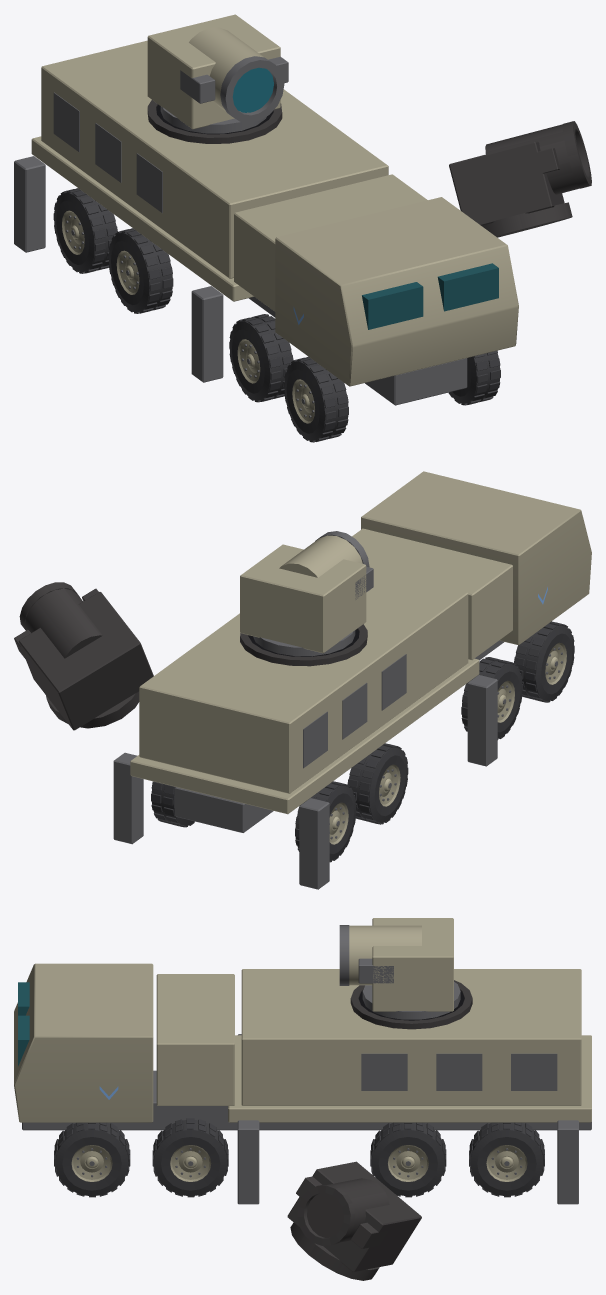
The model's file is laserAD__iron_beam.glb.
3 views of the same model, one above another, from view 1: azimuth 30°, elevation 25°; view 2: azimuth 150°, elevation 25°; view 3: azimuth 270°, elevation 25° (orthographic). The views are drawn at different scales.
Parts seen in each view (by area): view 1: Hull_Mesh, Wreck, Turret_Mesh, Gun_Mesh, Wheel_L1_Mesh, Wheel_L3_Mesh, Wheel_L2_Mesh, Wheel_L0_Mesh, Wheel_R3_Mesh; view 2: Hull_Mesh, Wreck, Turret_Mesh, Wheel_L1_Mesh, Wheel_L3_Mesh, Gun_Mesh, Wheel_L2_Mesh, Wheel_L0_Mesh, Wheel_R0_Mesh; view 3: Hull_Mesh, Wreck, Turret_Mesh, Wheel_R2_Mesh, Wheel_R3_Mesh, Wheel_R0_Mesh, Wheel_R1_Mesh, Gun_Mesh.
Boxes of the visible parts, bbox=[...] form: Hull_Mesh: bbox=[14, 40, 518, 405]; Wreck: bbox=[79, 100, 591, 434]; Turret_Mesh: bbox=[147, 14, 280, 133]; Gun_Mesh: bbox=[180, 27, 288, 122]; Wheel_L1_Mesh: bbox=[108, 228, 173, 313]; Wheel_L3_Mesh: bbox=[284, 356, 348, 442]; Wheel_L2_Mesh: bbox=[229, 314, 293, 402]; Wheel_L0_Mesh: bbox=[53, 188, 117, 273]; Wheel_R3_Mesh: bbox=[448, 350, 500, 405]; Hull_Mesh: bbox=[113, 471, 591, 889]; Wreck: bbox=[14, 582, 565, 826]; Turret_Mesh: bbox=[240, 544, 366, 656]; Wheel_L1_Mesh: bbox=[347, 743, 408, 824]; Wheel_L3_Mesh: bbox=[514, 621, 574, 702]; Gun_Mesh: bbox=[279, 531, 373, 599]; Wheel_L2_Mesh: bbox=[461, 657, 522, 739]; Wheel_L0_Mesh: bbox=[295, 781, 356, 862]; Wheel_R0_Mesh: bbox=[151, 781, 194, 827]; Hull_Mesh: bbox=[14, 963, 591, 1204]; Wreck: bbox=[91, 980, 510, 1280]; Turret_Mesh: bbox=[362, 918, 460, 1019]; Wheel_R2_Mesh: bbox=[152, 1118, 228, 1197]; Wheel_R3_Mesh: bbox=[54, 1122, 130, 1197]; Wheel_R0_Mesh: bbox=[469, 1122, 544, 1197]; Wheel_R1_Mesh: bbox=[370, 1122, 446, 1197]; Gun_Mesh: bbox=[339, 925, 421, 985].
Size of what is drawn, in the model's own units: 6.79 by 3.74 by 8.5.
